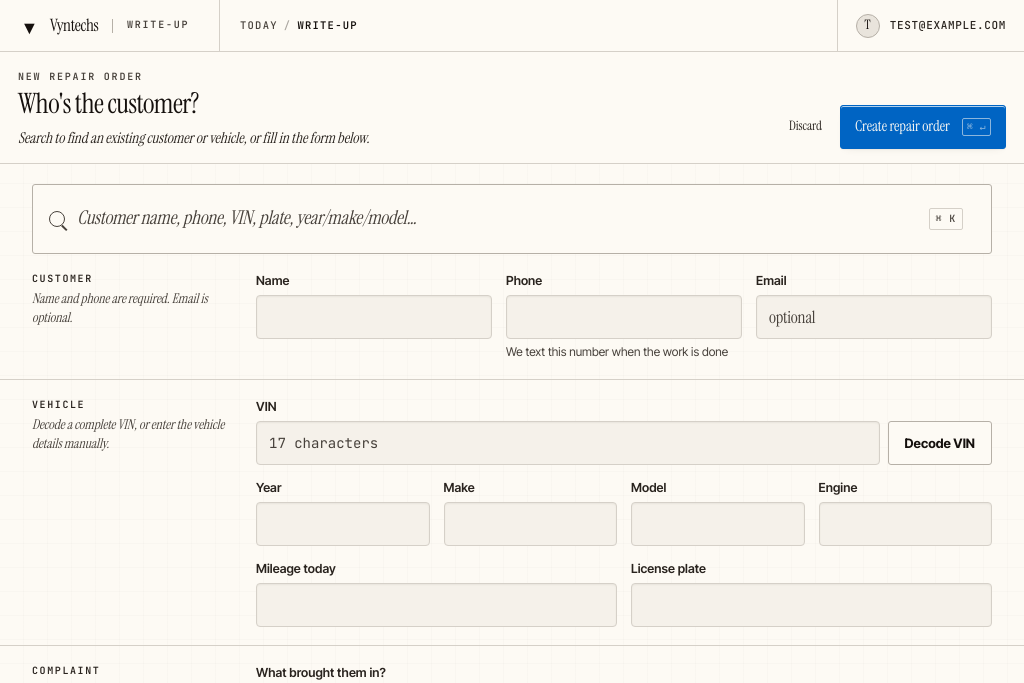
Scenario: WriteUp page wiring (search + form) › focuses search box → shows recent customers from the prop
Click the dropdown with placeholder "Customer name, phone, VIN, plate, year/make/model…". click: [497, 219]
box: [77,197,917,241]
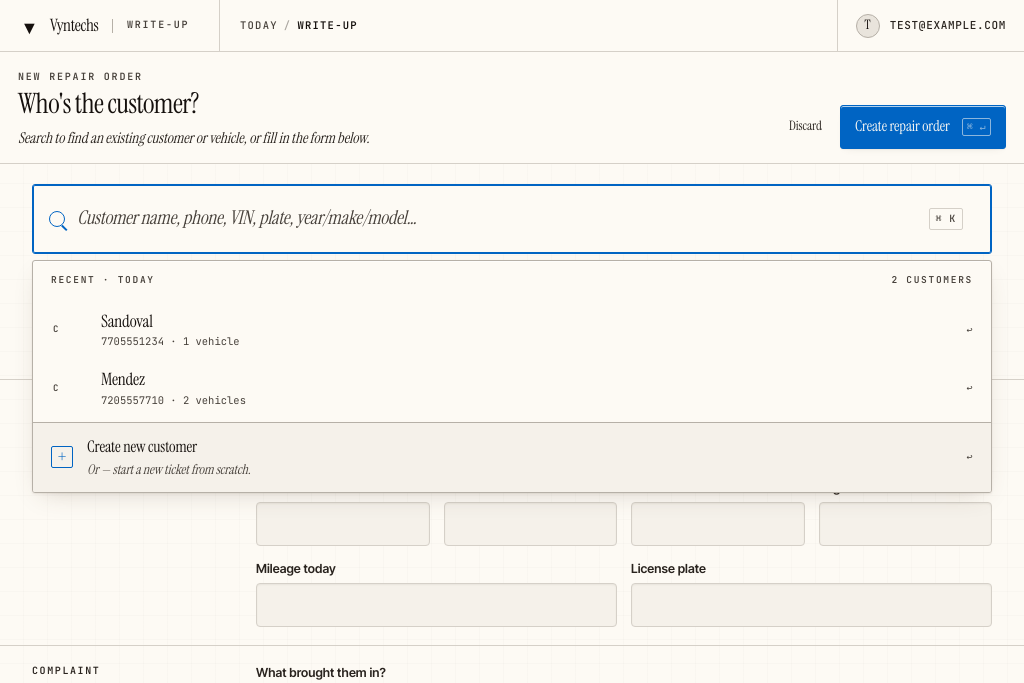
Now the text "Sandoval" is shown, box [101,310,153,332]
Now the text "Mendez" is shown, box [101,368,145,390]
